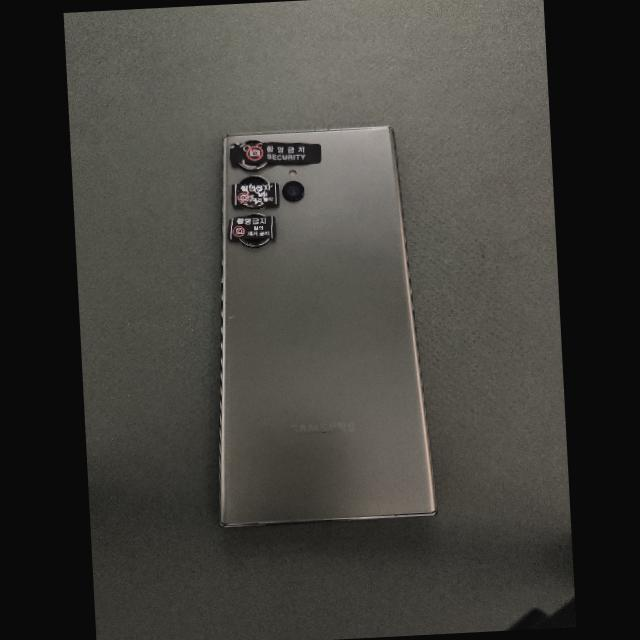lens: (239, 238, 270, 248), (240, 175, 268, 184), (242, 163, 268, 171)
phone: (220, 127, 436, 526)
sticker: (230, 142, 322, 164), (232, 182, 281, 207), (227, 216, 275, 240)
